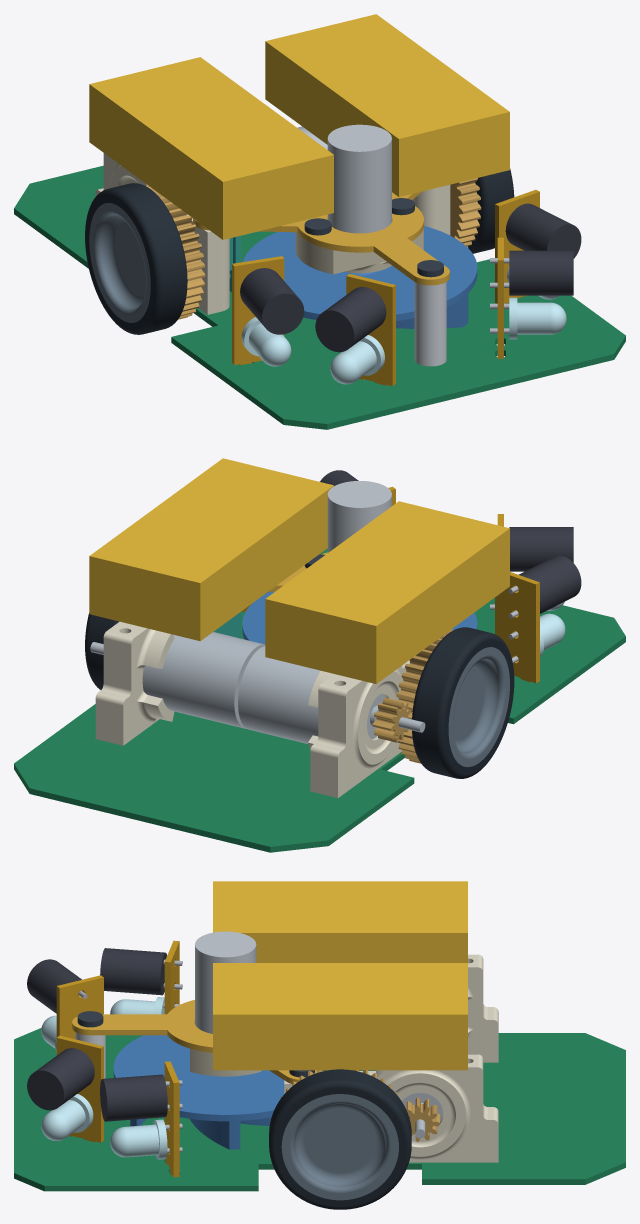
File: assembly-a12.glb
3 renders of one model, top to bottom at view 1: azimuth 30°, elevation 25°; view 2: azimuth 150°, elevation 25°; view 3: azimuth 270°, elevation 25°, orthographic. The views are drawn at different scales.
Parts seen in each view (by area): view 1: 063_pcb, 064_battery, 065_battery, 062_fan, 003_tire, 060_fan_motor, 002_wheel, upper_plate, 027_mount, side_left_ir_receiver, side_right_ir_receiver, front_left_ir_receiver (+14 smaller); view 2: 063_pcb, 064_battery, 065_battery, 027_mount, 030_motor, 003_tire, 059_mount, 000_motor, 002_wheel, front_left_pcb, 060_fan_motor, side_left_ir_receiver (+6 smaller); view 3: 063_pcb, 065_battery, 064_battery, 032_wheel, 062_fan, 059_mount, 033_tire, upper_plate, 060_fan_motor, front_right_ir_receiver, side_right_ir_receiver, front_left_ir_receiver (+12 smaller).
Boxes of the visible parts, left/top/right/bottom form: 063_pcb: left=14, top=165, right=625, bottom=429; 064_battery: left=89, top=57, right=333, bottom=239; 065_battery: left=265, top=14, right=509, bottom=196; 062_fan: left=243, top=226, right=477, bottom=328; 003_tire: left=85, top=183, right=187, bottom=334; 060_fan_motor: left=327, top=124, right=391, bottom=233; 002_wheel: left=89, top=203, right=150, bottom=322; upper_plate: left=193, top=191, right=449, bottom=285; 027_mount: left=95, top=153, right=229, bottom=314; side_left_ir_receiver: left=315, top=287, right=386, bottom=352; side_right_ir_receiver: left=509, top=250, right=573, bottom=295; front_left_ir_receiver: left=240, top=268, right=304, bottom=334; 063_pcb: left=14, top=548, right=625, bottom=852; 064_battery: left=265, top=501, right=509, bottom=683; 065_battery: left=89, top=458, right=333, bottom=641; 027_mount: left=308, top=660, right=409, bottom=797; 030_motor: left=90, top=632, right=265, bottom=728; 003_tire: left=412, top=627, right=514, bottom=778; 059_mount: left=95, top=621, right=174, bottom=745; 000_motor: left=238, top=646, right=425, bottom=743; 002_wheel: left=448, top=647, right=509, bottom=767; front_left_pcb: left=495, top=572, right=539, bottom=683; 060_fan_motor: left=327, top=481, right=391, bottom=552; side_left_ir_receiver: left=509, top=527, right=573, bottom=571; 063_pcb: left=14, top=1028, right=625, bottom=1191; 065_battery: left=213, top=963, right=467, bottom=1070; 064_battery: left=213, top=881, right=467, bottom=962; 032_wheel: left=281, top=1094, right=398, bottom=1200; 062_fan: left=113, top=1035, right=284, bottom=1149; 059_mount: left=284, top=1054, right=498, bottom=1162; 033_tire: left=269, top=1069, right=411, bottom=1209; upper_plate: left=72, top=1000, right=316, bottom=1083; 060_fan_motor: left=195, top=931, right=256, bottom=1033; front_right_ir_receiver: left=100, top=1074, right=167, bottom=1121; side_right_ir_receiver: left=27, top=1048, right=94, bottom=1110; front_left_ir_receiver: left=100, top=948, right=166, bottom=995.
Bounding box in the file's own units: 38.8 × 19.88 × 60.
